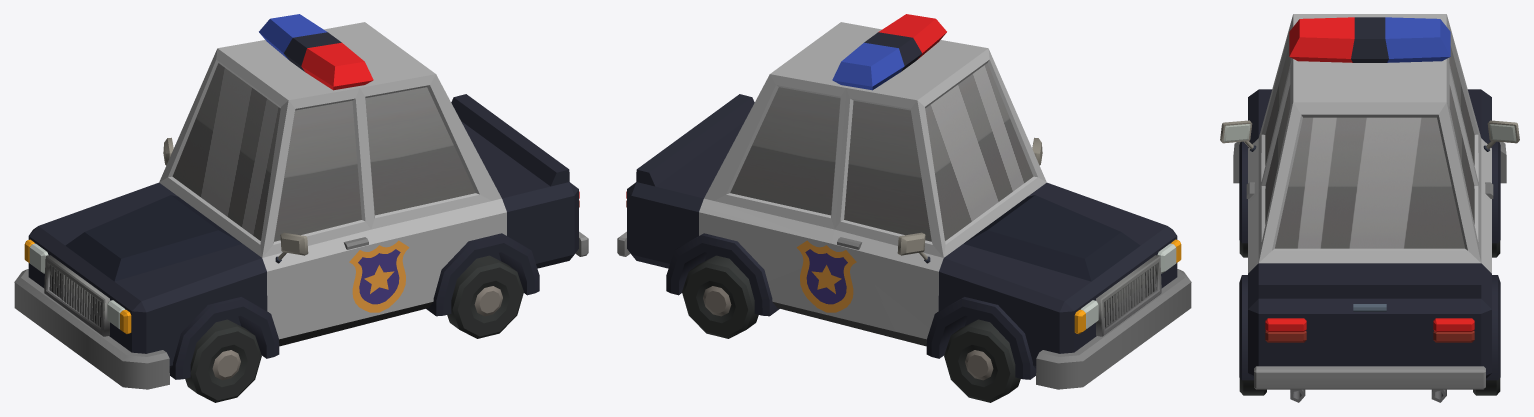
Rendered from Car_Police_1_A_2.fbx.
3 views of the same model, side by side, from view 1: azimuth 30°, elevation 25°; view 2: azimuth 150°, elevation 25°; view 3: azimuth 270°, elevation 25° (orthographic). The views are drawn at different scales.
Visible parts, largest first — view 1: Car_Police_1_A_2, RL, FL; view 2: Car_Police_1_A_2, RR, FR; view 3: Car_Police_1_A_2, RL, RR.
Boxes of the visible parts, box(x1,y1,x2,y2) form: Car_Police_1_A_2: box(14, 14, 588, 389); RL: box(447, 255, 523, 338); FL: box(185, 319, 261, 402); Car_Police_1_A_2: box(617, 14, 1191, 389); RR: box(682, 255, 758, 338); FR: box(944, 319, 1020, 402); Car_Police_1_A_2: box(1220, 14, 1519, 402); RL: box(1239, 378, 1266, 395); RR: box(1473, 378, 1500, 395).
Bounding box in the file's own units: 346 × 199 × 178.
